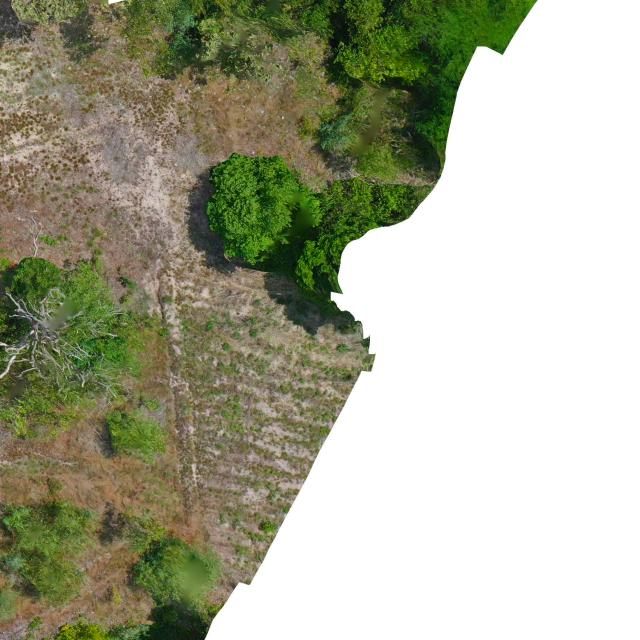Tree: (0, 256, 138, 414), (206, 151, 323, 269)
